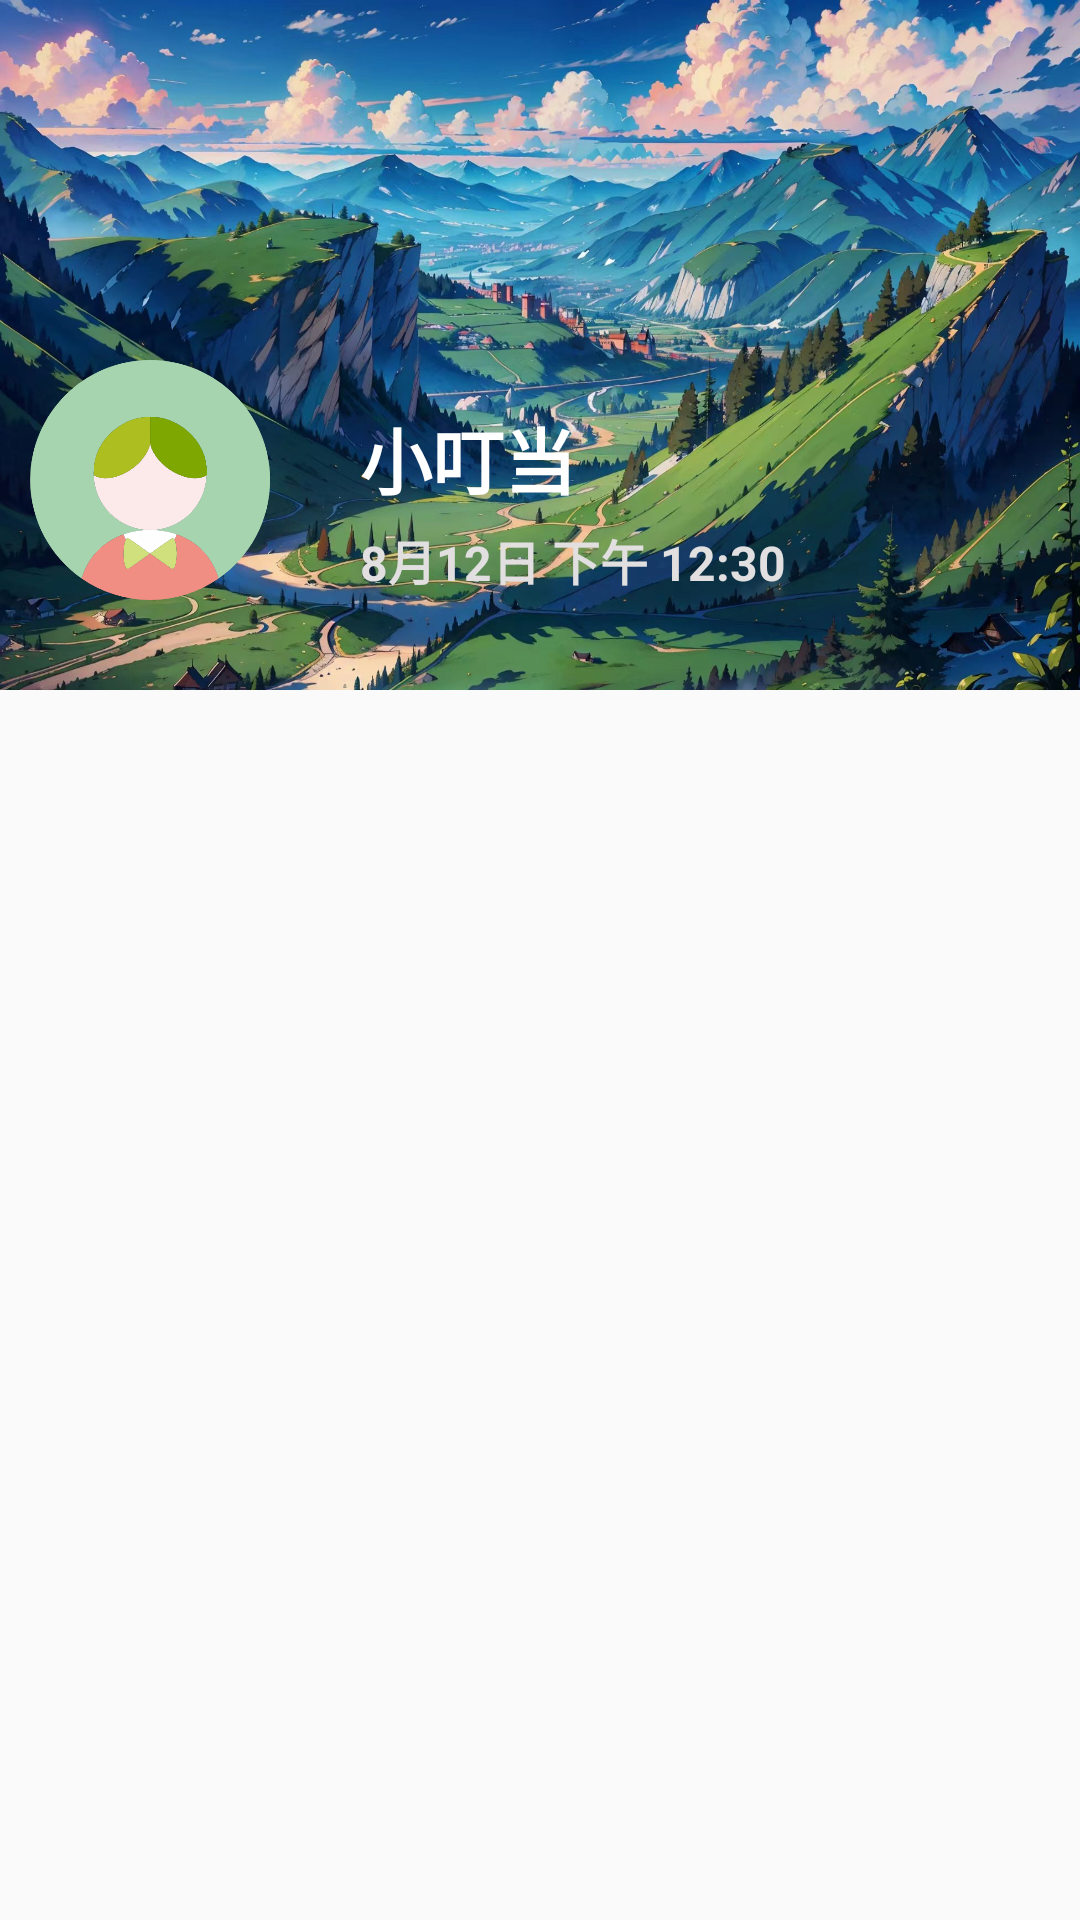

Where to tap for icons on this 1080x1920 app screen, as (x,y):
boy: (150,480)
